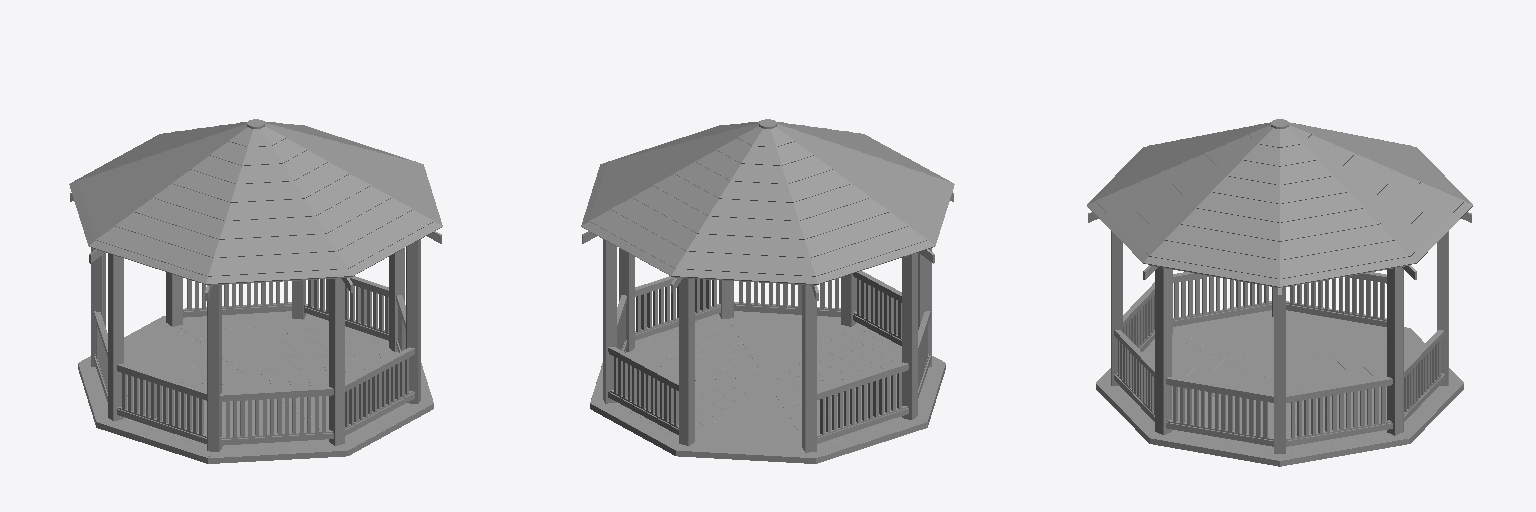
The model's file is Palapa.obj.
The picture shows the model from 3 angles: view 1: azimuth 30°, elevation 25°; view 2: azimuth 150°, elevation 25°; view 3: azimuth 270°, elevation 25°; orthographic projection.
Visible parts, largest first — view 1: group1 Gazebo:Gazebo_0, Gazebo:Gazebo_1 group1; view 2: group1 Gazebo:Gazebo_0, Gazebo:Gazebo_1 group1; view 3: group1 Gazebo:Gazebo_0, Gazebo:Gazebo_1 group1.
Boxes of the visible parts, x1,y1,x2,y2 form: group1 Gazebo:Gazebo_0: [69, 121, 442, 463]; Gazebo:Gazebo_1 group1: [91, 119, 420, 451]; group1 Gazebo:Gazebo_0: [581, 121, 954, 463]; Gazebo:Gazebo_1 group1: [603, 119, 931, 452]; group1 Gazebo:Gazebo_0: [1087, 122, 1472, 466]; Gazebo:Gazebo_1 group1: [1111, 119, 1448, 453].
Size of the model in its own units: 45.27 by 34.3 by 45.27.